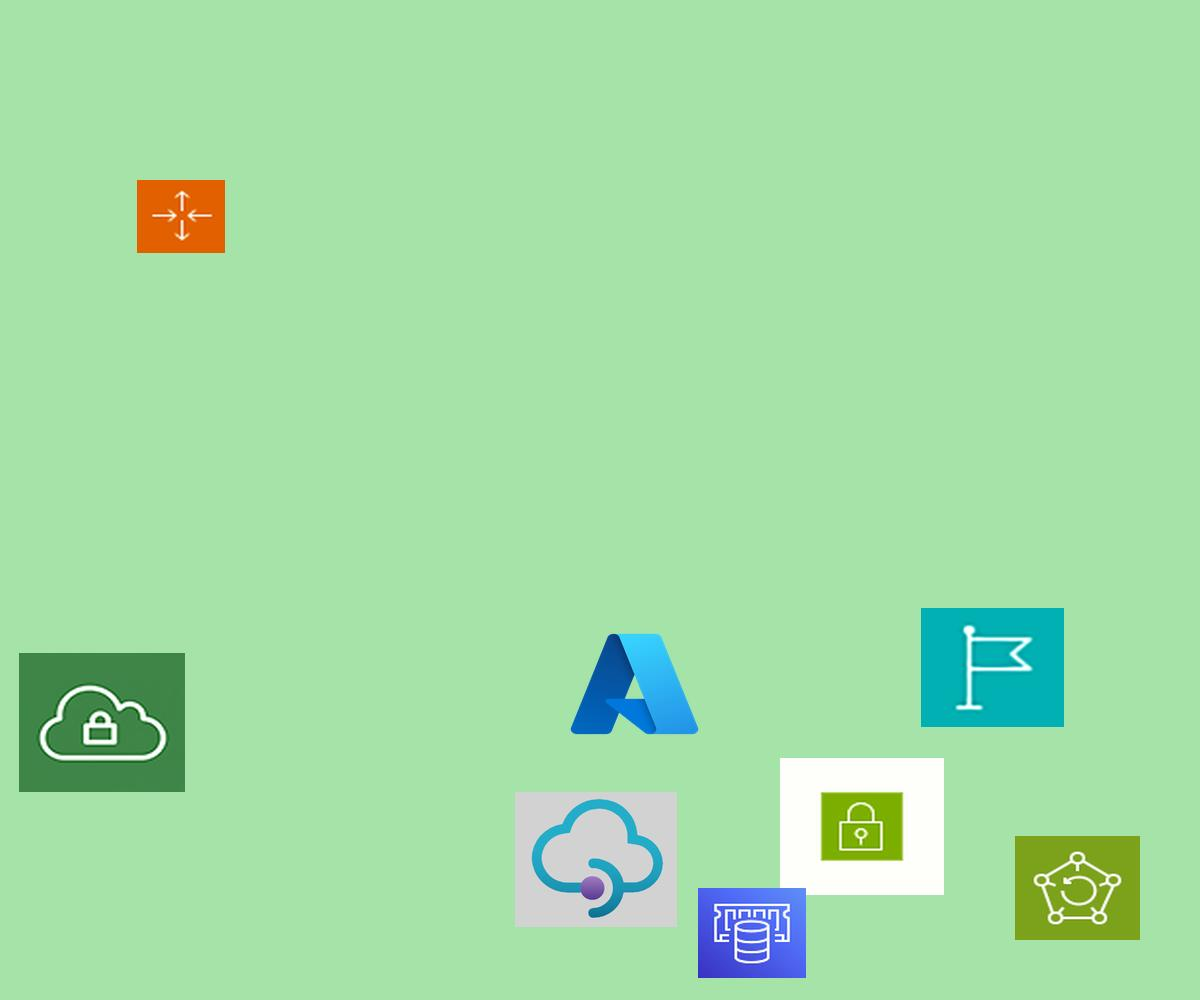AWS-Backup: (1015, 836, 1140, 940)
AWS-ElastiCache: (698, 888, 806, 978)
AWS-Private_vpc: (19, 653, 185, 792)
AWS-Public-subnet: (780, 758, 944, 895)
AWS-Region: (921, 608, 1064, 727)
AWS-Scaling-group: (137, 180, 225, 253)
Azure_api_gateway: (515, 792, 677, 927)
Azure_services: (565, 626, 704, 742)
